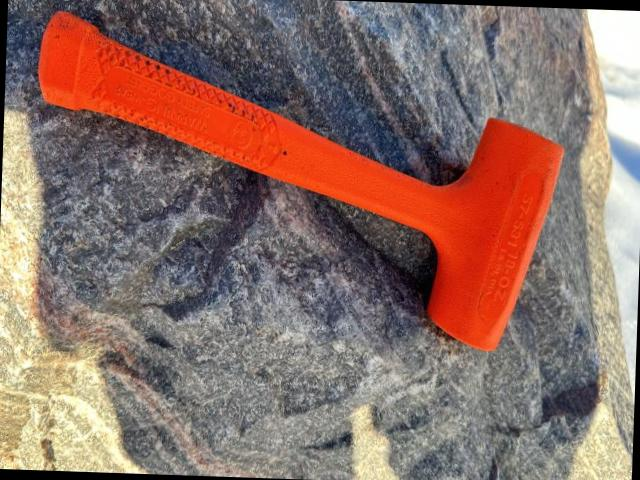hammer: (29, 12, 568, 356)
